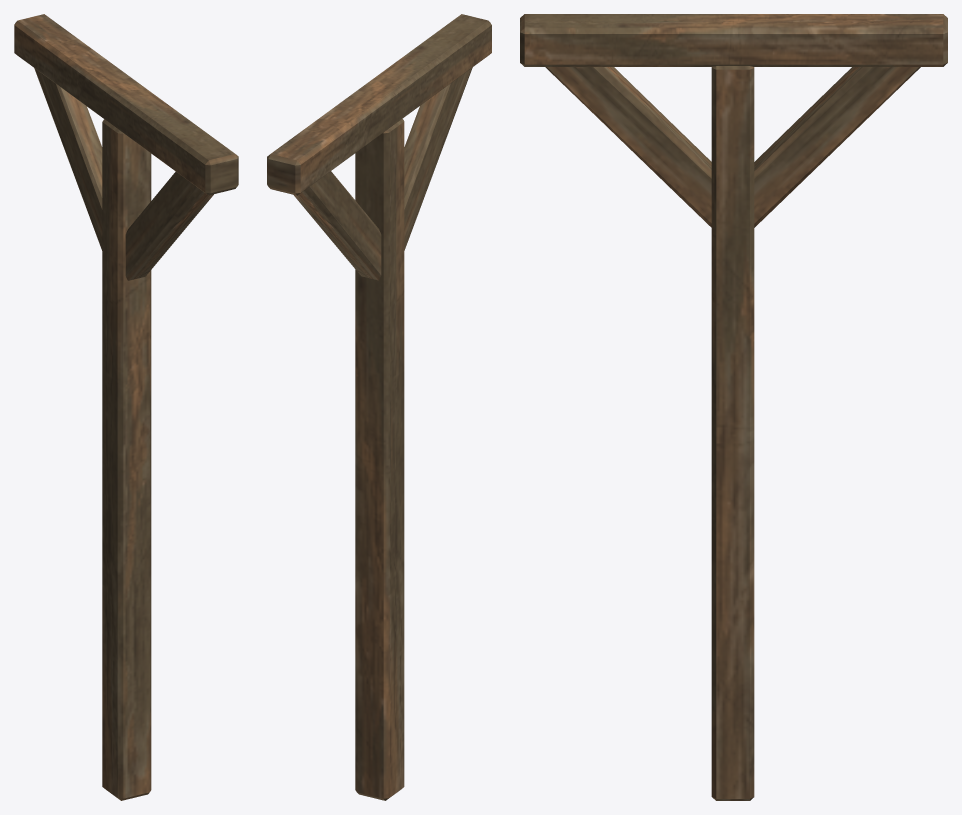
The model's file is SM_bark_02.fbx.
3 views of the same model, side by side, from view 1: azimuth 30°, elevation 25°; view 2: azimuth 150°, elevation 25°; view 3: azimuth 270°, elevation 25° (orthographic). The views are drawn at different scales.
Visible parts, largest first — view 1: SM_bark_02_LOD0; view 2: SM_bark_02_LOD0; view 3: SM_bark_02_LOD0.
Boxes of the visible parts, x1,y1,x2,y2 form: SM_bark_02_LOD0: [14, 14, 238, 800]; SM_bark_02_LOD0: [267, 14, 491, 800]; SM_bark_02_LOD0: [520, 14, 947, 800].
Size of the model in its own units: 20 by 201 by 400.
Materials: 1 (1 with a texture image).
